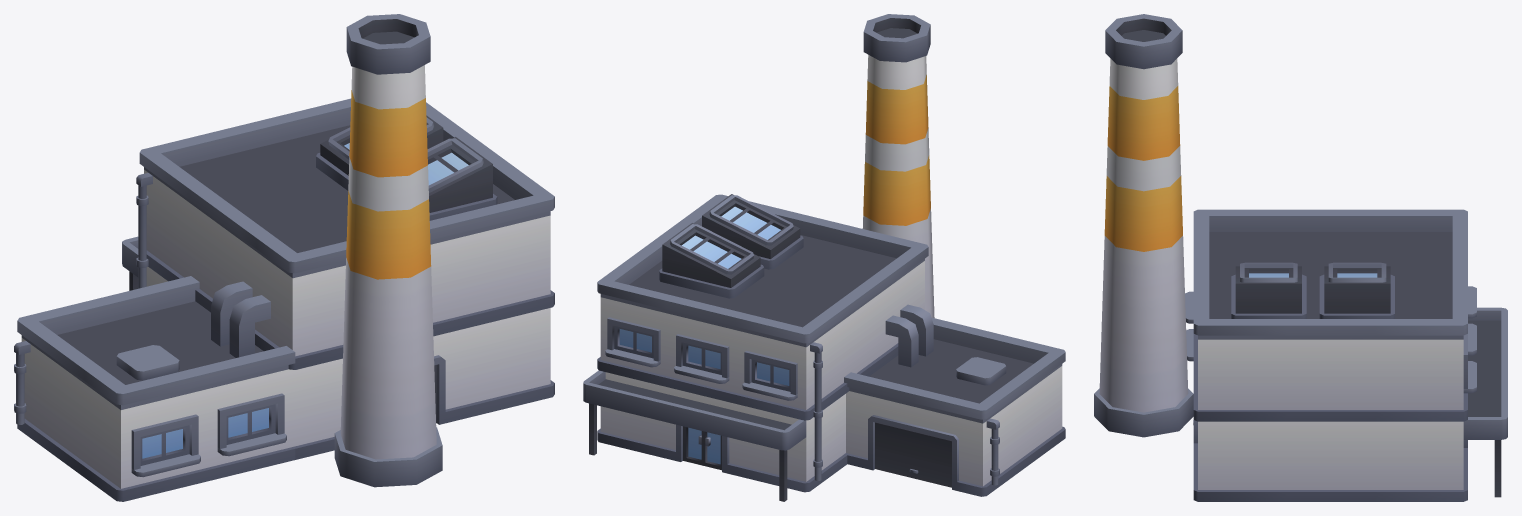
Rendered from kenney-city-industrial-building-l.glb.
The picture shows the model from 3 angles, left to right: view 1: azimuth 30°, elevation 25°; view 2: azimuth 150°, elevation 25°; view 3: azimuth 270°, elevation 25°; orthographic projection. The views are drawn at different scales.
Parts seen in each view (by area): view 1: building-l; view 2: building-l; view 3: building-l.
Boxes of the visible parts, left/top/right/bottom form: building-l: left=14, top=14, right=554, bottom=501; building-l: left=583, top=14, right=1065, bottom=501; building-l: left=1094, top=14, right=1507, bottom=501.
Bounding box in the file's own units: 2.08 × 1.93 × 1.87.
Materials: 1 (1 with a texture image).
